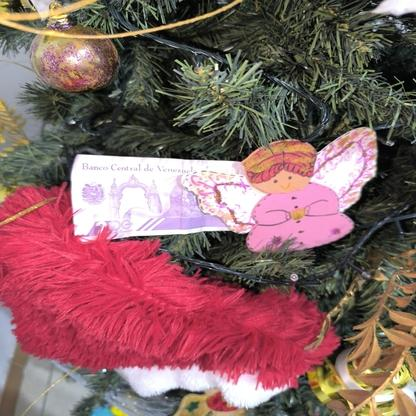one_hundred-back-vef: (70, 154, 246, 242)
